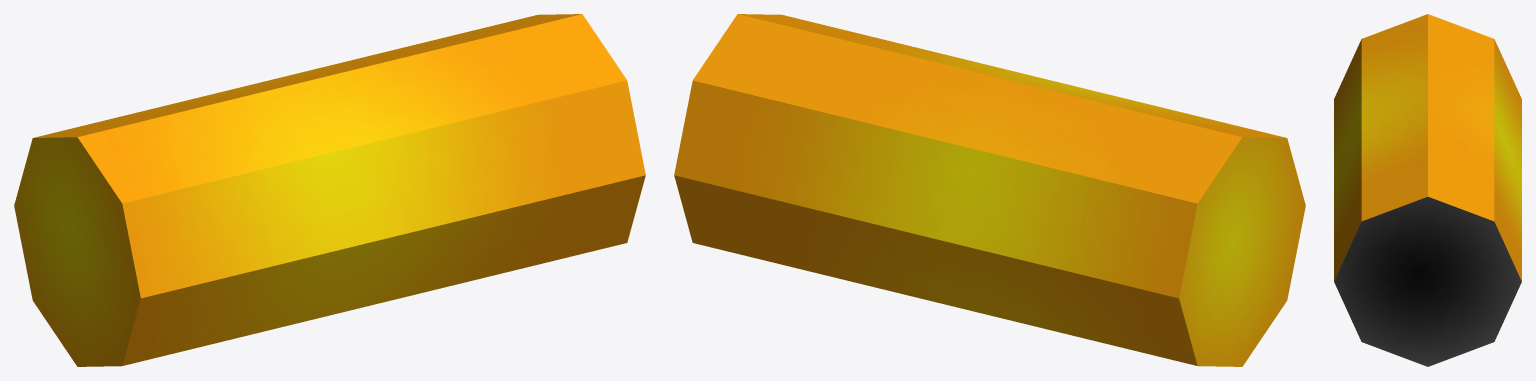
The model's file is shellBullet.fbx.
The picture shows the model from 3 angles, left to right: view 1: azimuth 30°, elevation 25°; view 2: azimuth 150°, elevation 25°; view 3: azimuth 270°, elevation 25°; orthographic projection. The views are drawn at different scales.
Visible parts, largest first — view 1: sheel; view 2: sheel; view 3: sheel.
Part boxes in pixels (x1,y1,x2,y2): sheel: (14,14,645,366); sheel: (674,14,1305,366); sheel: (1334,14,1521,366).
Size of the model in its own units: 4.6 by 2 by 2.
